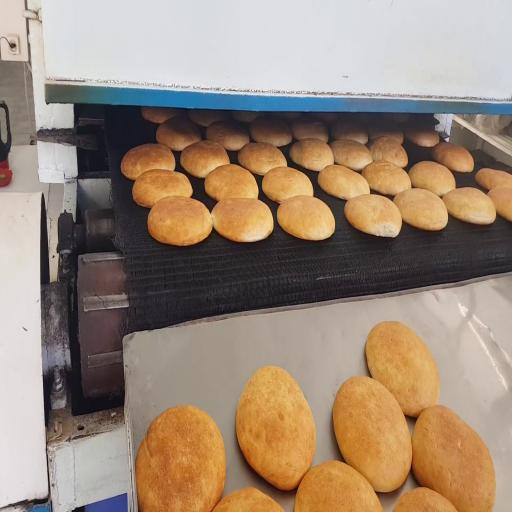bread: (236, 366, 315, 490), (135, 406, 225, 511), (333, 376, 412, 492), (412, 406, 495, 511), (366, 322, 439, 417), (294, 461, 382, 511), (148, 196, 212, 246), (212, 198, 273, 242), (277, 196, 335, 240), (344, 194, 402, 237), (132, 170, 192, 208), (394, 189, 448, 230), (443, 187, 496, 225), (121, 144, 175, 180), (205, 165, 258, 201), (262, 167, 313, 203), (180, 141, 229, 178), (318, 165, 369, 200), (362, 160, 411, 196), (409, 161, 455, 196), (214, 488, 283, 511), (238, 143, 286, 175), (156, 118, 201, 151), (290, 138, 333, 172), (394, 488, 456, 511), (330, 140, 372, 172), (206, 121, 249, 151), (368, 136, 408, 167), (432, 142, 473, 172), (250, 117, 292, 146), (330, 120, 368, 144), (291, 119, 328, 142), (368, 120, 403, 144), (488, 187, 511, 221), (476, 168, 511, 190), (404, 127, 439, 147), (142, 107, 183, 124), (188, 110, 227, 127), (231, 111, 261, 123), (314, 112, 340, 124), (272, 112, 303, 122), (383, 113, 409, 123)
